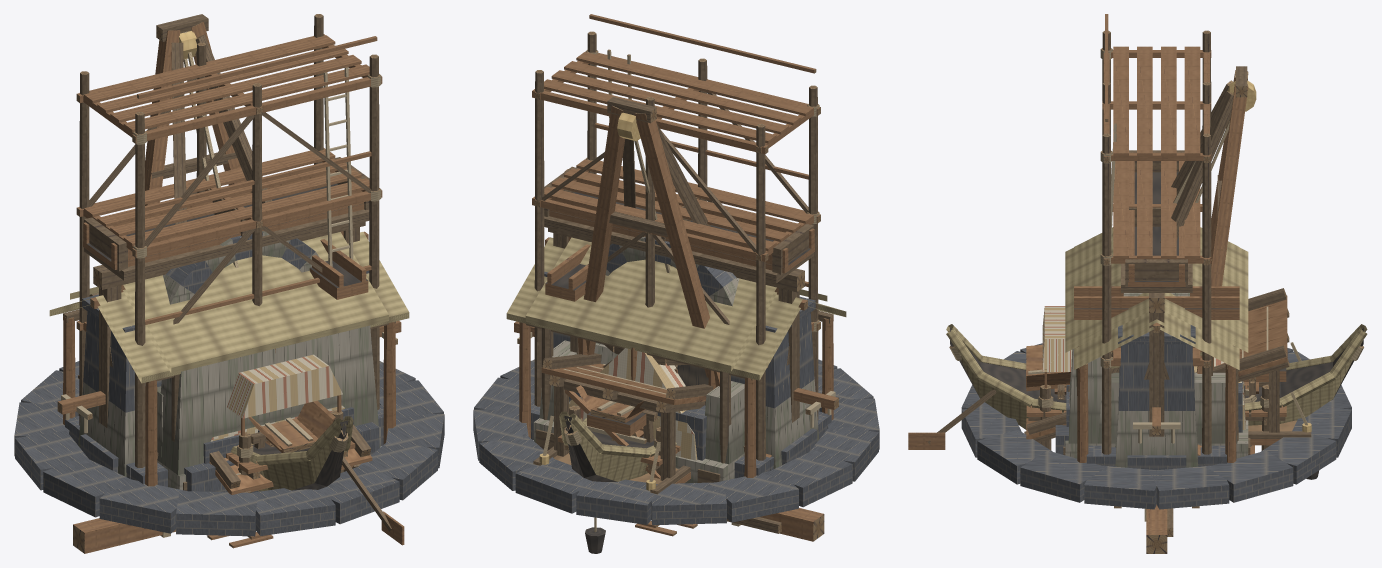
The model's file is shipyard_industry_kit.glb.
The picture shows the model from 3 angles, left to right: view 1: azimuth 30°, elevation 25°; view 2: azimuth 150°, elevation 25°; view 3: azimuth 270°, elevation 25°; orthographic projection. The views are drawn at different scales.
Visible parts, largest first — view 1: sy_scaffold_bay_LOD0, sy_sawmill_base_LOD0, sy_smithy_forge_LOD0, sy_aqueduct_pier_span_LOD0, sy_aqueduct_source_LOD0, sy_sawpit_shed_LOD0, sy_crane_aframe_LOD0, sy_tent_worker_LOD0, river_magur_cargo_LOD0, sy_timber_chute_segment_LOD0, river_waterwheel_base_LOD0, sy_crane_timber_load_LOD0 (+3 smaller); view 2: sy_scaffold_bay_LOD0, sy_sawmill_base_LOD0, sy_smithy_forge_LOD0, sy_crane_aframe_LOD0, sy_aqueduct_pier_span_LOD0, sy_sawpit_shed_LOD0, sy_ramp_module_LOD0, sy_aqueduct_source_LOD0, river_magur_cargo_LOD0, sy_tent_worker_LOD0, river_waterwheel_base_LOD0, sy_crane_timber_load_LOD0 (+4 smaller); view 3: sy_scaffold_bay_LOD0, sy_sawmill_base_LOD0, sy_aqueduct_pier_span_LOD0, river_magur_cargo_LOD0, sy_crane_aframe_LOD0, sy_smithy_forge_LOD0, sy_sawpit_shed_LOD0, sy_ramp_module_LOD0, sy_aqueduct_source_LOD0, river_waterwheel_base_LOD0, sy_tent_worker_LOD0, river_timber_jetty_LOD0 (+4 smaller).
Part boxes in pixels (box(x1,y1,x2,y2)): sy_scaffold_bay_LOD0: box(76, 14, 382, 467); sy_sawmill_base_LOD0: box(14, 221, 444, 536); sy_smithy_forge_LOD0: box(70, 231, 388, 441); sy_aqueduct_pier_span_LOD0: box(78, 157, 369, 476); sy_aqueduct_source_LOD0: box(78, 325, 380, 489); sy_sawpit_shed_LOD0: box(49, 231, 409, 486); sy_crane_aframe_LOD0: box(145, 14, 379, 492); sy_tent_worker_LOD0: box(210, 348, 344, 444); river_magur_cargo_LOD0: box(230, 416, 404, 545); sy_timber_chute_segment_LOD0: box(248, 400, 335, 452); river_waterwheel_base_LOD0: box(309, 239, 368, 299); sy_crane_timber_load_LOD0: box(73, 518, 175, 553); sy_scaffold_bay_LOD0: box(532, 14, 820, 460); sy_sawmill_base_LOD0: box(473, 228, 879, 525); sy_smithy_forge_LOD0: box(525, 237, 827, 463); sy_crane_aframe_LOD0: box(535, 97, 720, 482); sy_aqueduct_pier_span_LOD0: box(544, 166, 819, 468); sy_sawpit_shed_LOD0: box(506, 237, 846, 478); sy_ramp_module_LOD0: box(541, 353, 713, 480); sy_aqueduct_source_LOD0: box(533, 340, 819, 483); river_magur_cargo_LOD0: box(559, 411, 676, 481); sy_tent_worker_LOD0: box(569, 347, 697, 460); river_waterwheel_base_LOD0: box(545, 244, 617, 364); sy_crane_timber_load_LOD0: box(727, 508, 824, 541); sy_scaffold_bay_LOD0: box(1100, 14, 1211, 454); sy_sawmill_base_LOD0: box(961, 293, 1351, 509); sy_aqueduct_pier_span_LOD0: box(1115, 150, 1198, 467); river_magur_cargo_LOD0: box(908, 324, 1367, 449); sy_crane_aframe_LOD0: box(1055, 66, 1256, 455); sy_smithy_forge_LOD0: box(1065, 228, 1248, 441); sy_sawpit_shed_LOD0: box(1074, 227, 1239, 466); sy_ramp_module_LOD0: box(1024, 288, 1289, 448); sy_aqueduct_source_LOD0: box(1065, 349, 1286, 458); river_waterwheel_base_LOD0: box(1074, 286, 1239, 375); sy_tent_worker_LOD0: box(1042, 306, 1245, 429); river_timber_jetty_LOD0: box(1026, 384, 1286, 450).
Size of what is drawn, in the model's own units: 8.97 by 11.15 by 10.55.
1 material, 1 textured.
